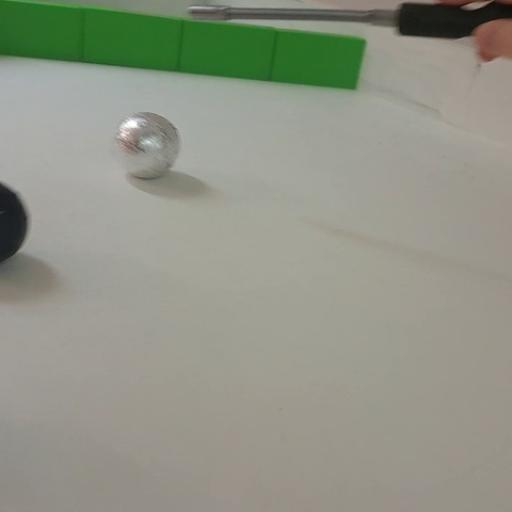alive: (112, 109, 182, 178)
dead: (0, 178, 30, 265)
